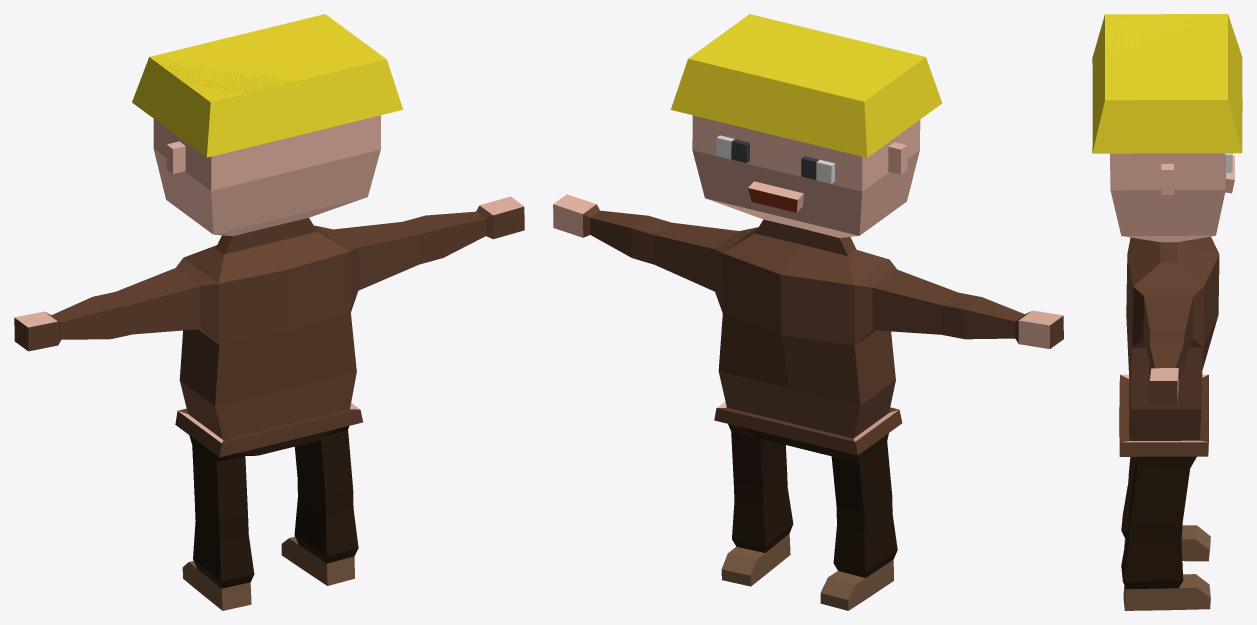
Rendered from BaseModel.fbx.
The picture shows the model from 3 angles, left to right: view 1: azimuth 30°, elevation 25°; view 2: azimuth 150°, elevation 25°; view 3: azimuth 270°, elevation 25°; orthographic projection.
Visible parts, largest first — view 1: Base model, Base hat; view 2: Base model, Base hat; view 3: Base model, Base hat.
Part boxes in pixels (bbox=[...]): Base model: bbox=[14, 115, 524, 610]; Base hat: bbox=[132, 14, 403, 157]; Base model: bbox=[553, 115, 1063, 610]; Base hat: bbox=[670, 14, 942, 157]; Base model: bbox=[1110, 153, 1234, 610]; Base hat: bbox=[1092, 14, 1242, 153].
Size of the model in its own units: 58.85 by 59.11 by 15.4.
